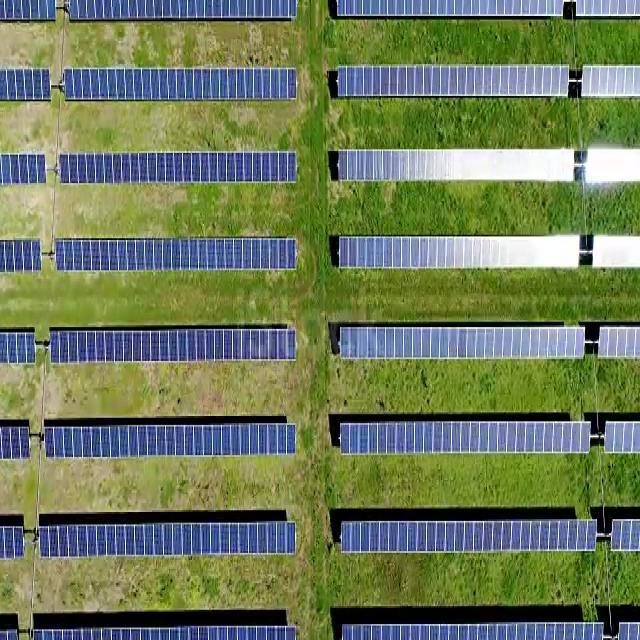solar-panel: (44, 425, 296, 458), (340, 423, 592, 456), (38, 525, 297, 557), (51, 328, 297, 360), (339, 327, 585, 359), (54, 238, 298, 270), (336, 150, 576, 182), (340, 523, 597, 552), (337, 239, 581, 268), (65, 68, 296, 98), (60, 154, 296, 183), (336, 67, 571, 95), (68, 1, 298, 20), (343, 624, 603, 640), (330, 1, 565, 17), (34, 627, 299, 640), (583, 64, 640, 96), (588, 152, 640, 183), (1, 69, 51, 99), (597, 235, 640, 266), (1, 240, 41, 272), (1, 155, 46, 183), (602, 326, 640, 356), (1, 331, 36, 362), (607, 423, 640, 455), (1, 1, 52, 20), (1, 427, 29, 458), (616, 517, 640, 551), (1, 525, 24, 558), (577, 1, 640, 13), (620, 624, 640, 640), (2, 631, 21, 640)
